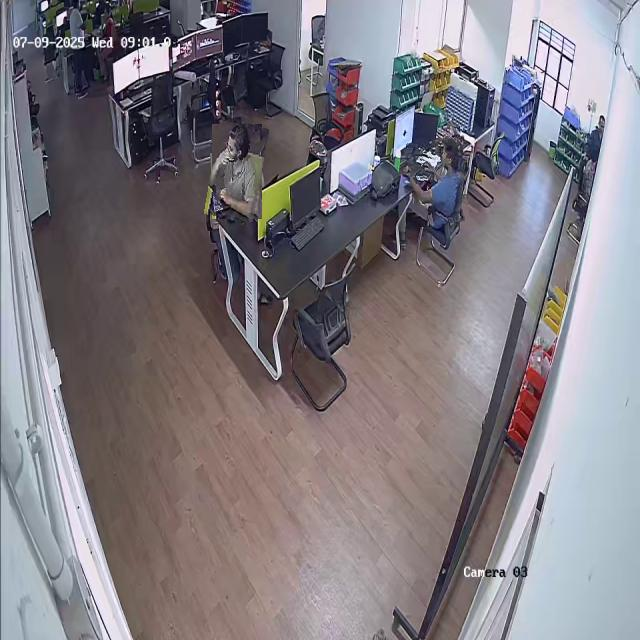person: (208, 122, 266, 221), (408, 137, 468, 226)
